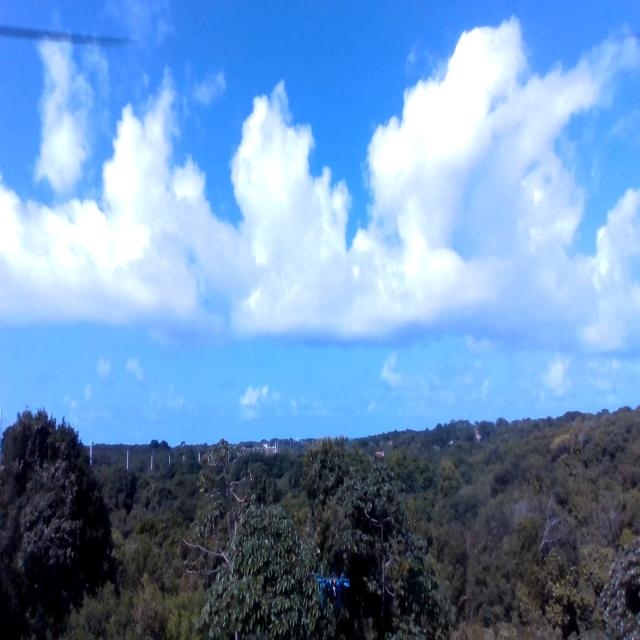-uav-: (307, 553, 365, 622)
